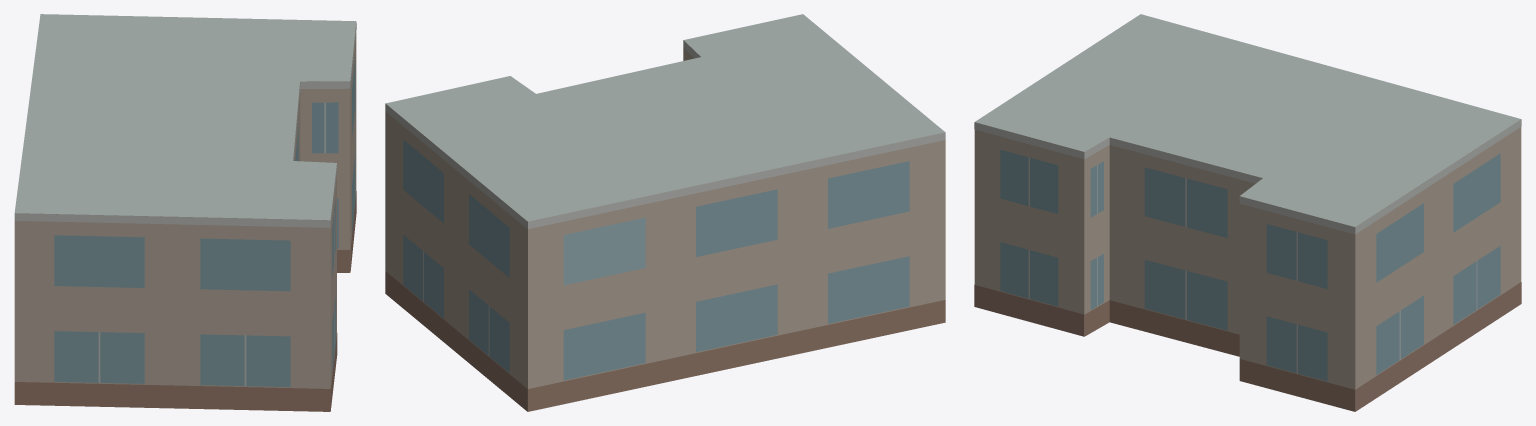
Rendered from survey-upis-32591816.glb.
3 renders of one model, left to right at view 1: azimuth 30°, elevation 25°; view 2: azimuth 150°, elevation 25°; view 3: azimuth 270°, elevation 25°, orthographic. The views are drawn at different scales.
Visible parts, largest first — view 1: survey-upis-32591816.tmp; view 2: survey-upis-32591816.tmp; view 3: survey-upis-32591816.tmp.
Boxes of the visible parts, x1=… form: survey-upis-32591816.tmp: x1=14, y1=14, x2=356, y2=411; survey-upis-32591816.tmp: x1=385, y1=14, x2=945, y2=411; survey-upis-32591816.tmp: x1=974, y1=14, x2=1521, y2=411.
Bounding box in the file's own units: 15.1 × 6.1 × 16.38.
